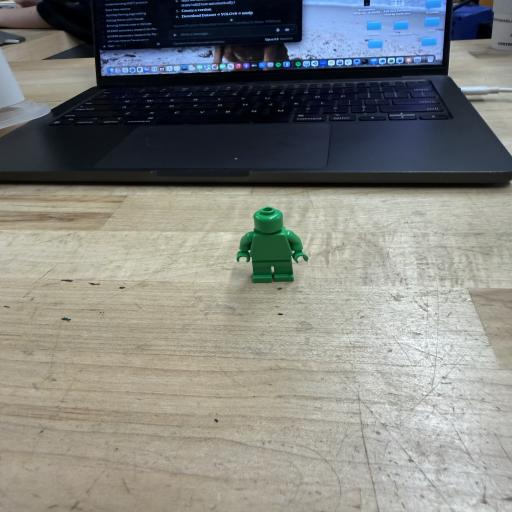green-minifig: (237, 207, 308, 283)
